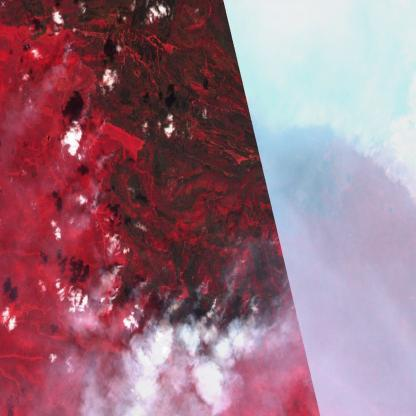fire: (57, 38, 416, 369)
